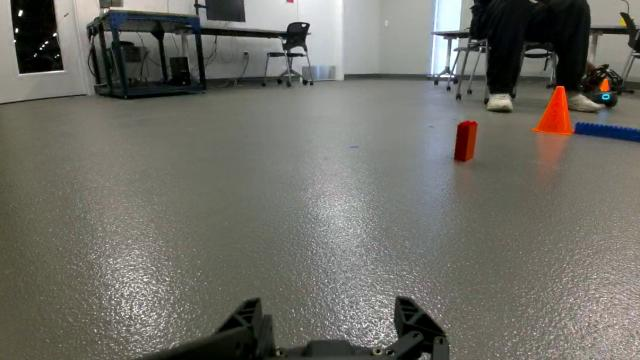lego: (433, 111, 489, 172)
